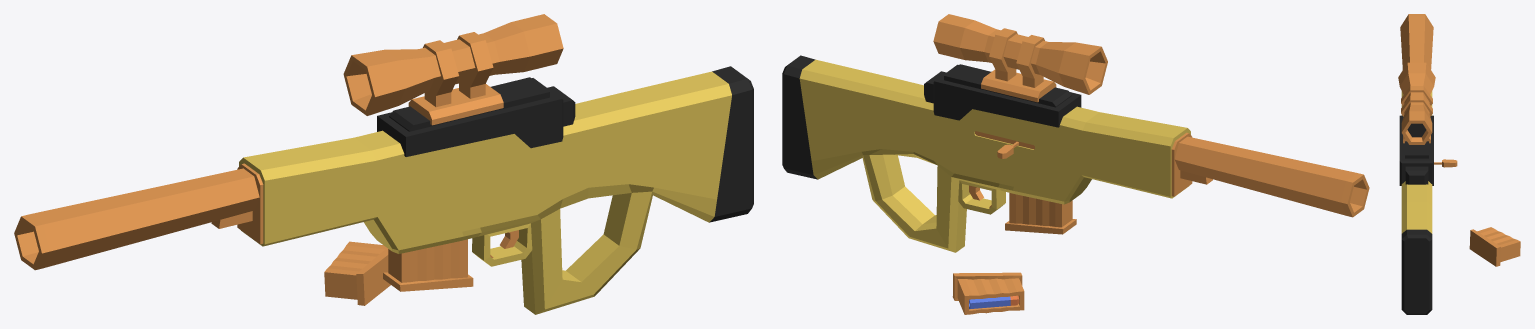
The model's file is scene_DtsiwJh3jH.glb.
3 renders of one model, left to right at view 1: azimuth 30°, elevation 25°; view 2: azimuth 150°, elevation 25°; view 3: azimuth 270°, elevation 25°, orthographic. The views are drawn at different scales.
Parts seen in each view (by area): view 1: Sniper_Main_Cube, Scope_Cube.005, Mag_Cube.002, Mag-DISPLAY_Cube.007; view 2: Sniper_Main_Cube, Scope_Cube.005, Mag-DISPLAY_Cube.007, Mag_Cube.002; view 3: Sniper_Main_Cube, Scope_Cube.005, Mag-DISPLAY_Cube.007, PullingHandle_Cube.003.
Part boxes in pixels (box(x1,y1,x2,y2)): Sniper_Main_Cube: box(14, 66, 753, 314); Scope_Cube.005: box(343, 14, 563, 125); Mag_Cube.002: box(383, 239, 473, 291); Mag-DISPLAY_Cube.007: box(324, 241, 390, 305); Sniper_Main_Cube: box(782, 55, 1369, 252); Scope_Cube.005: box(933, 14, 1107, 102); Mag-DISPLAY_Cube.007: box(952, 272, 1024, 314); Mag_Cube.002: box(1005, 193, 1076, 234); Sniper_Main_Cube: box(1399, 14, 1433, 314); Scope_Cube.005: box(1398, 62, 1435, 144); Mag-DISPLAY_Cube.007: box(1469, 227, 1520, 266); PullingHandle_Cube.003: box(1434, 159, 1457, 167).
Size of the model in its own units: 6.27 by 2.44 by 1.57.
